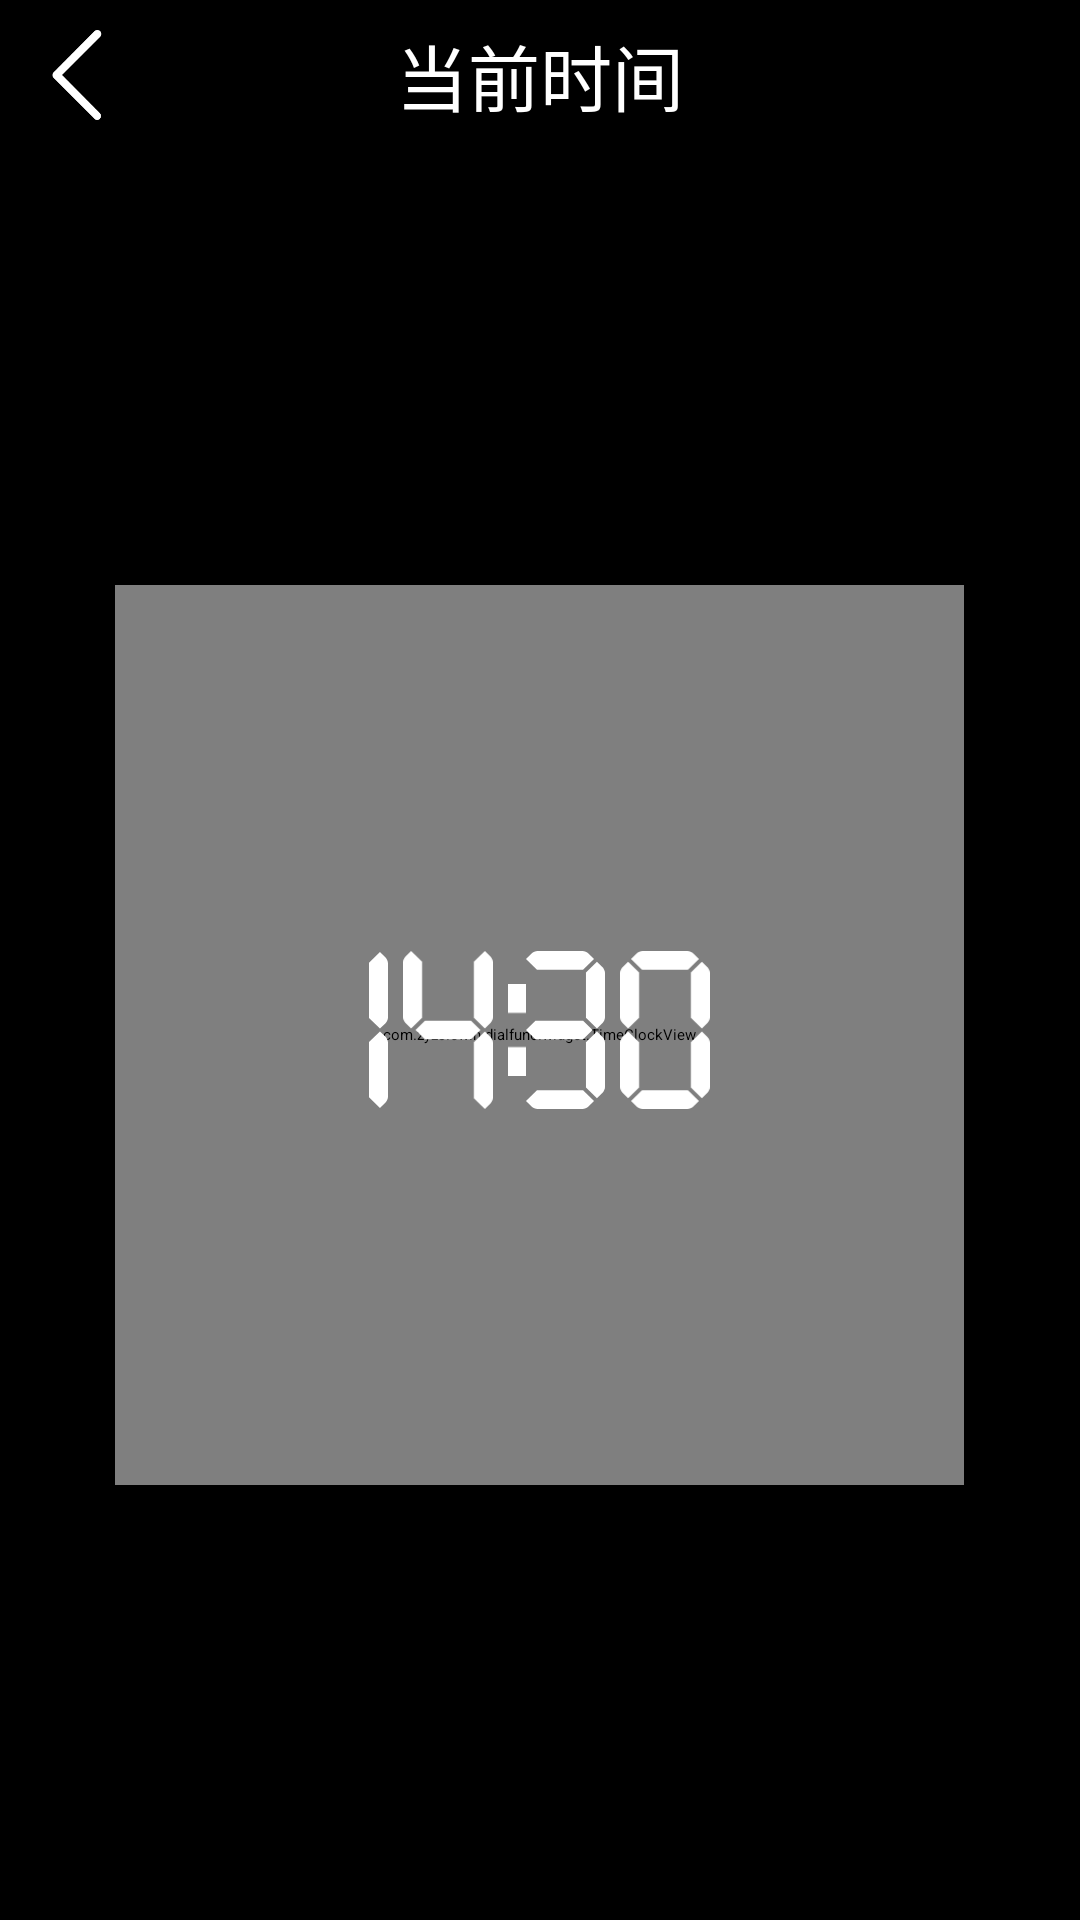

Screen size 1080px x 1920px. Icon name, then its box in pixels as (x1, y1, x2, y2):
back: (52, 30, 102, 120)
